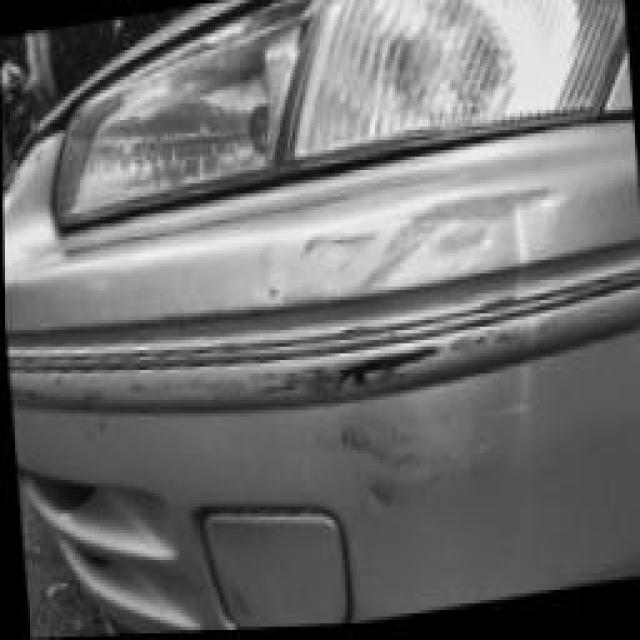Bumper: (218, 150, 593, 598)
